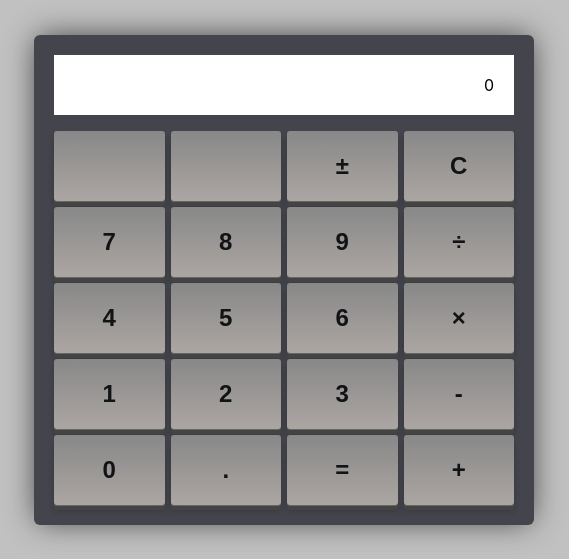
Numbers displayed › the number buttons appear on the display
Expected: the text with test id "calculator-display-input" reads "0", [484,75,494,95]
Click the button with test id "calculator-key-1" at (109, 394), box [54,359,164,429]
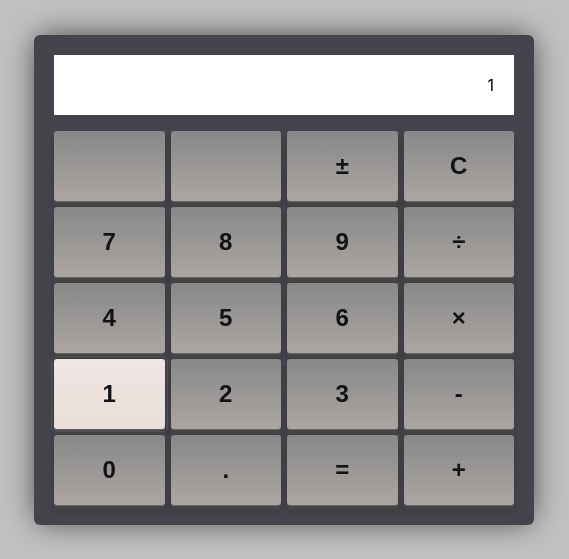
Click the button with test id "calculator-key-1" at (109, 394), box [54,359,164,429]
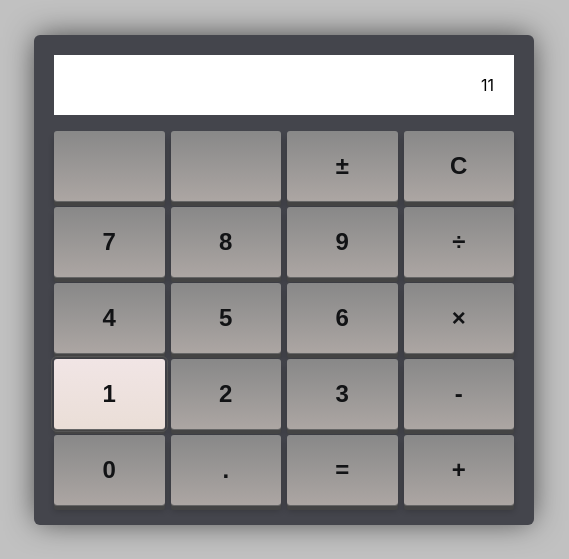
Click the button with test id "calculator-key-1" at (109, 394), box [54,359,164,429]
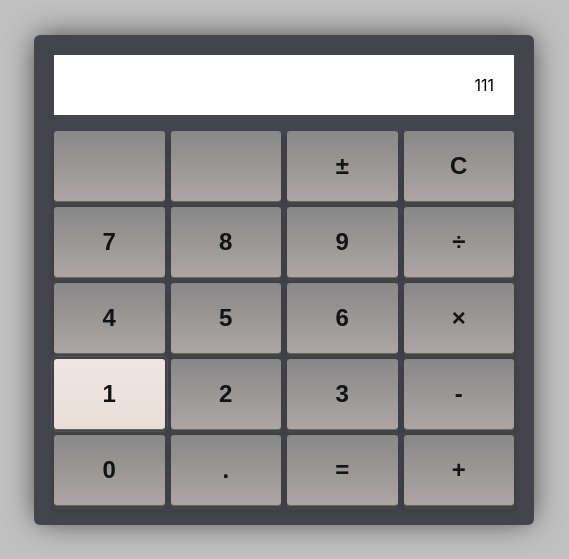
Expected: the text with test id "calculator-display-input" reads "111", [474,75,494,95]
